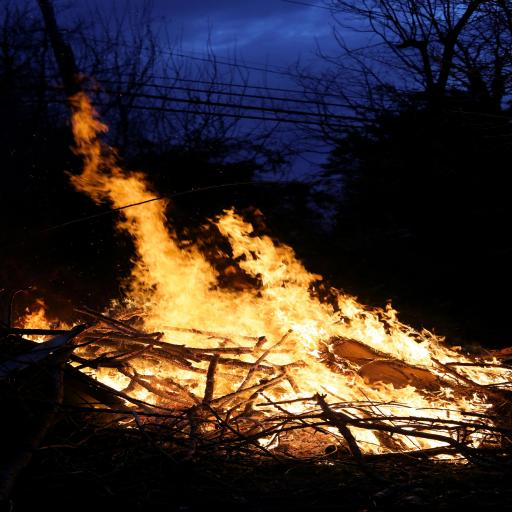campfire: (131, 0, 131, 2)
wildfire: (0, 92, 512, 512)
